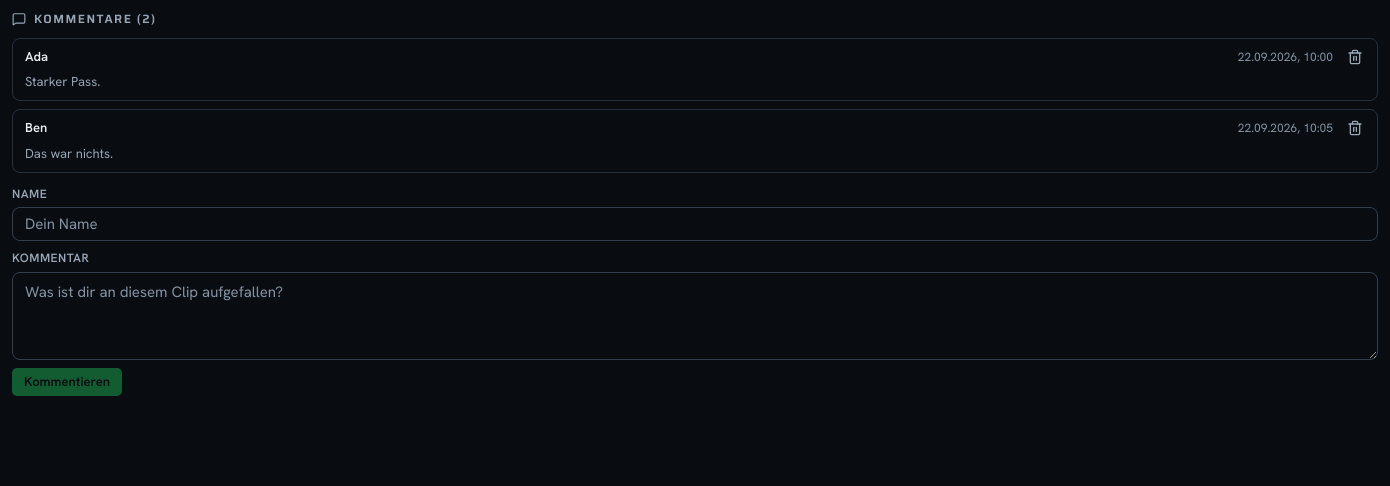
Test: CommentThread delete (coach) › deletes a comment only after the confirm step
This screenshot has width=1390, height=486.
Expected: the text "Das war nichts." is shown, [25,145,113,162]
Click the button named "Kommentar von Ben löschen": (1355, 128) [1341,114,1369,142]
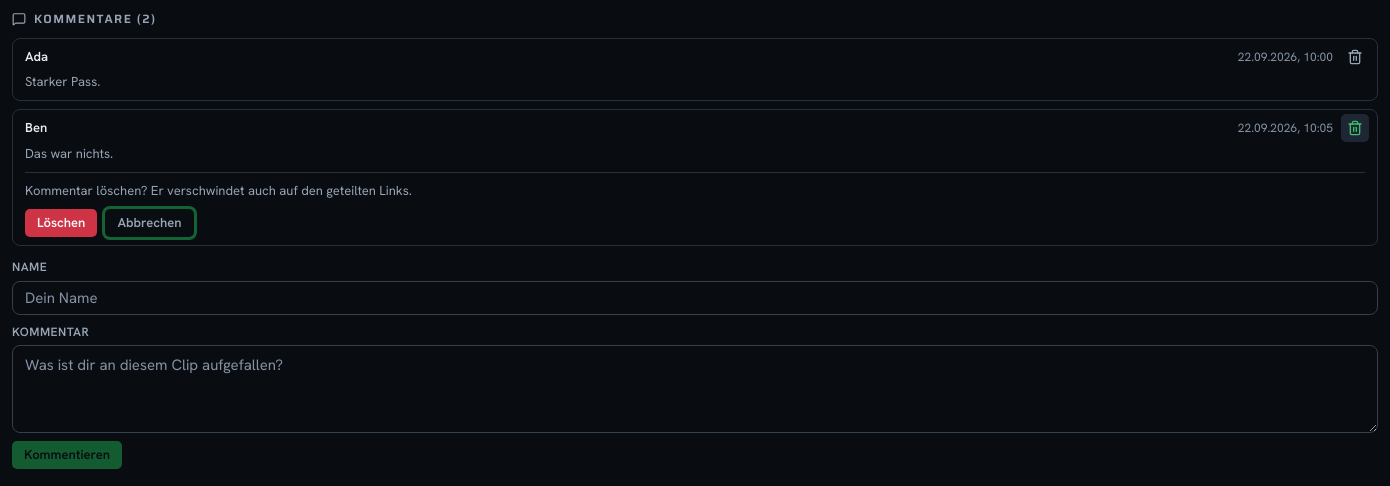
Click the button "Löschen": (61, 223) [25,209,97,237]
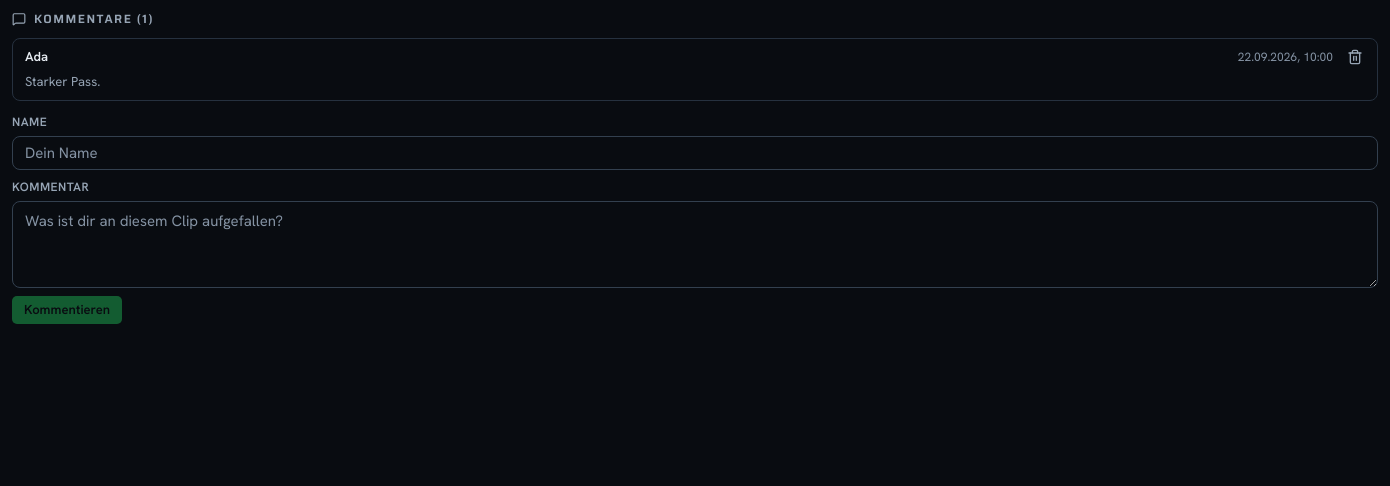
Expected: the text "Starker Pass." is shown, [25,73,100,90]
Expected: the text "Das war nichts." is gone
